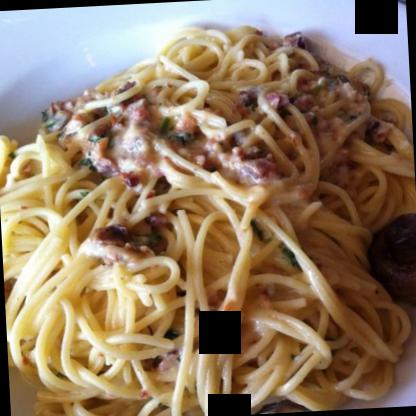pasta: (0, 10, 415, 415)
